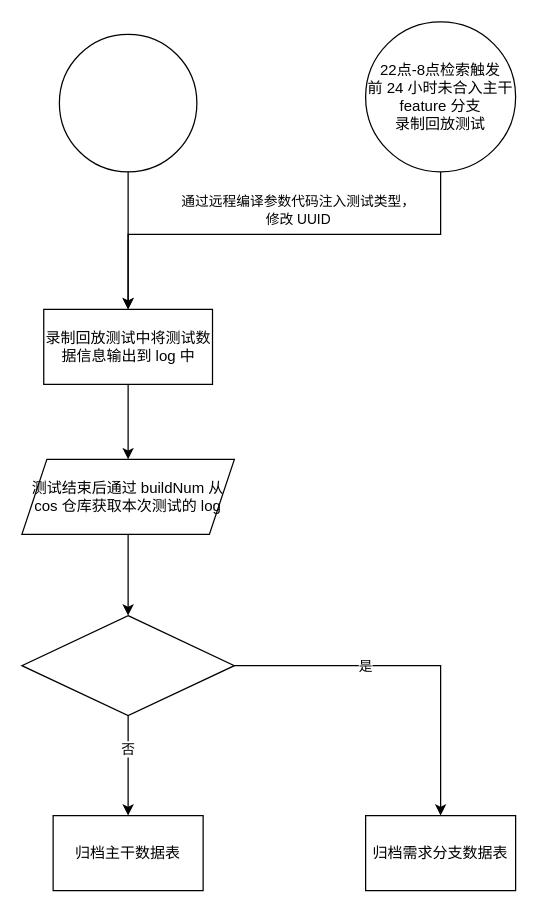
Image size: 538x913. Some labels were removed from this diagram. The shapes that lost their labels are listed below. From the top down, each one's centre as x and y in pixels, then its label:
At pixel 127 102: "主干 Merge 时 触发 master 分支 录制回放测试".
At pixel 127 665: "使用 buildNum 取 log 文件， 并通过 UUID 判断 是否为 feature 测试".
